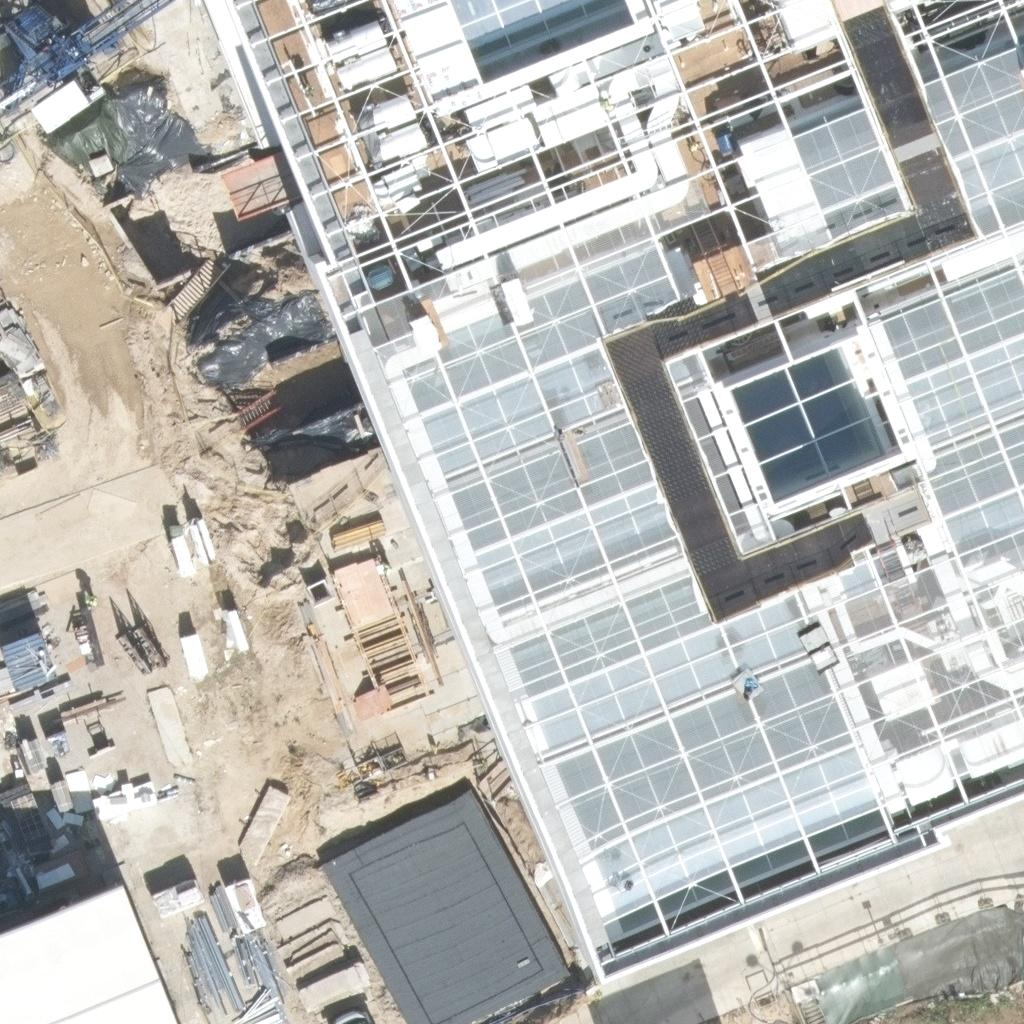zuraw_wiezowy: (0, 0, 176, 114)
